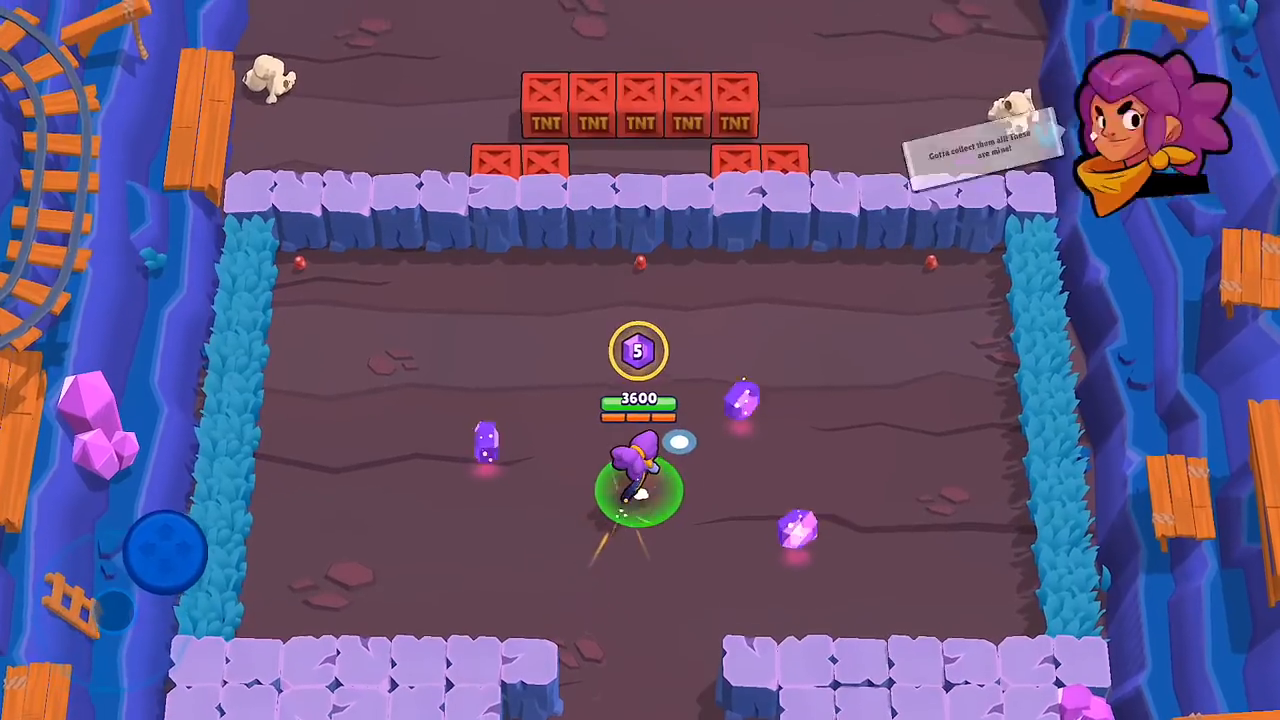move_stick: (125, 512, 208, 594)
